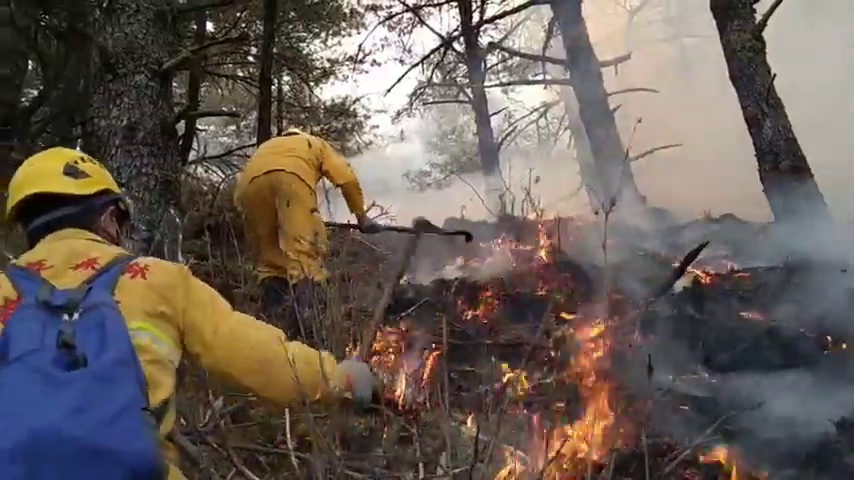fire: (564, 325, 615, 461), (366, 326, 440, 405), (502, 363, 530, 398), (531, 224, 551, 265), (481, 288, 499, 317), (707, 441, 726, 462)
